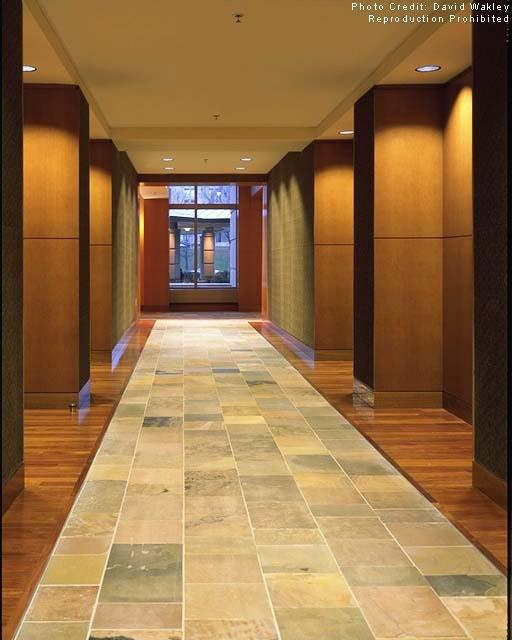Ventana: (170, 186, 236, 292)
